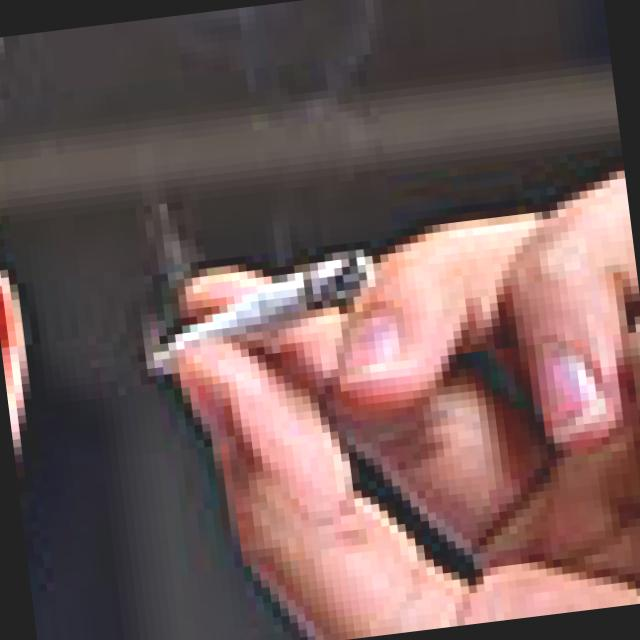smoke: (140, 242, 387, 388)
